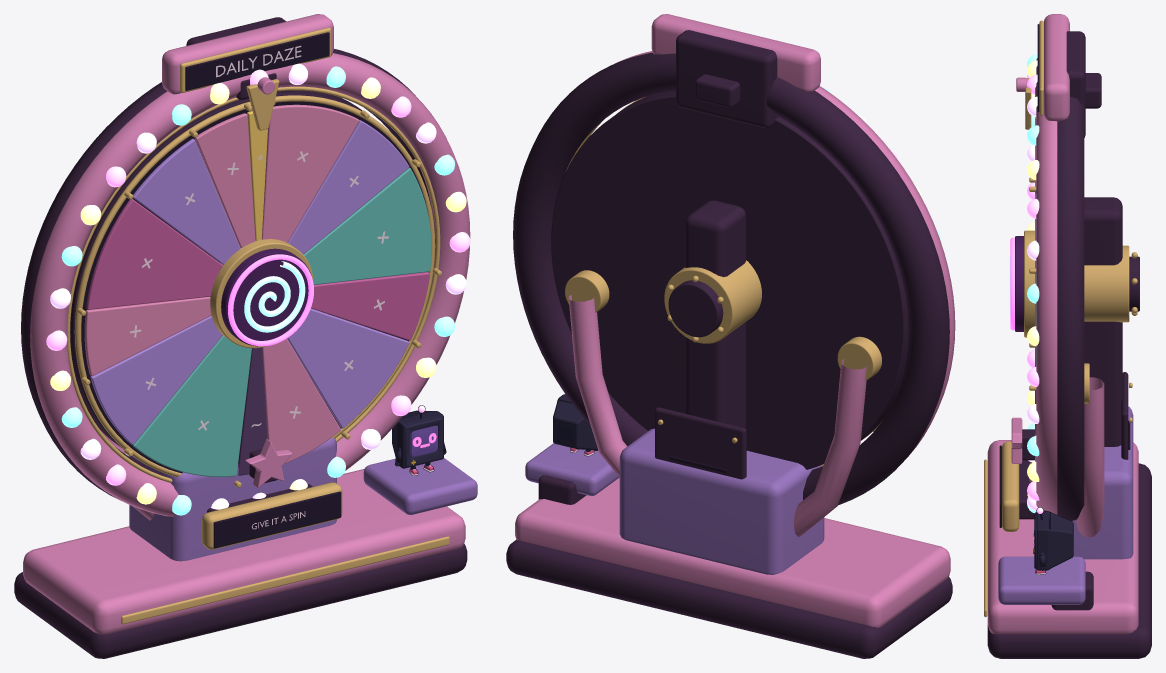
The model's file is wheel.glb.
The picture shows the model from 3 angles, left to right: view 1: azimuth 30°, elevation 25°; view 2: azimuth 150°, elevation 25°; view 3: azimuth 270°, elevation 25°; orthographic projection. The views are drawn at different scales.
Visible parts, largest first — view 1: base, sector_prize_02, sector_prize_01, bezel_back, sector_prize_03, base_inlay, sector_prize_04, emi_perch, hub, status_screen, title_screen, vent (+10 smaller); view 2: bezel_back, base, emi_perch, base_inlay, EMI_case; view 3: bezel_back, base, emi_perch, base_inlay, EMI_case, hub, star_mount, hub_lip, bezel, title_screen.
Part boxes in pixels (<box>): base: <box>23,14,470,634</box>; sector_prize_02: <box>90,120,409,444</box>; sector_prize_01: <box>84,104,359,463</box>; bezel_back: <box>14,17,467,658</box>; sector_prize_03: <box>132,167,431,476</box>; base_inlay: <box>67,27,449,624</box>; sector_prize_04: <box>86,199,429,340</box>; emi_perch: <box>129,438,477,561</box>; hub: <box>221,248,310,346</box>; status_screen: <box>213,491,341,548</box>; title_screen: <box>185,32,329,90</box>; vent: <box>81,101,429,473</box>; bezel_back: <box>506,30,952,658</box>; base: <box>515,14,955,627</box>; emi_perch: <box>525,428,824,574</box>; base_inlay: <box>565,97,882,466</box>; EMI_case: <box>553,394,597,450</box>; bezel_back: <box>987,31,1151,658</box>; base: <box>987,14,1138,634</box>; emi_perch: <box>998,406,1133,604</box>; base_inlay: <box>984,20,1137,617</box>; EMI_case: <box>1036,511,1072,570</box>; hub: <box>1015,236,1023,331</box>; star_mount: <box>1011,417,1022,463</box>; hub_lip: <box>1010,237,1014,330</box>; bezel: <box>1033,510,1073,574</box>; title_screen: <box>1037,24,1039,112</box>.
Size of the model in its own units: 1.81 by 2.2 by 0.6341.
29 materials, 1 textured.
